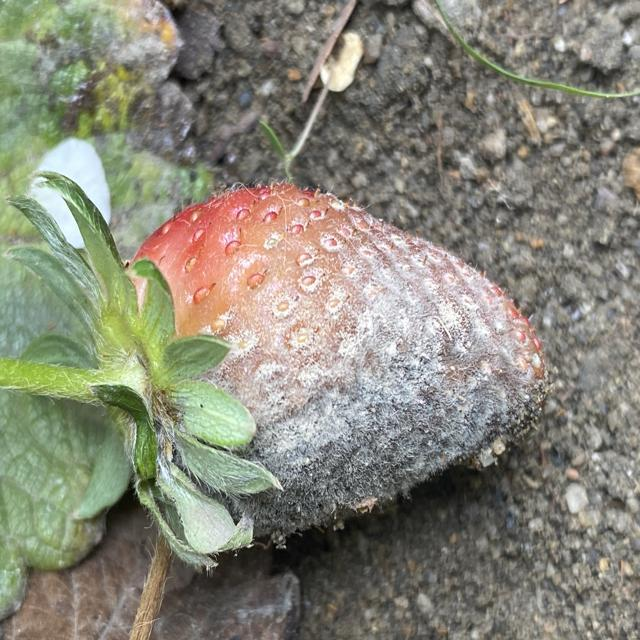Botrytis: (119, 183, 552, 543)
